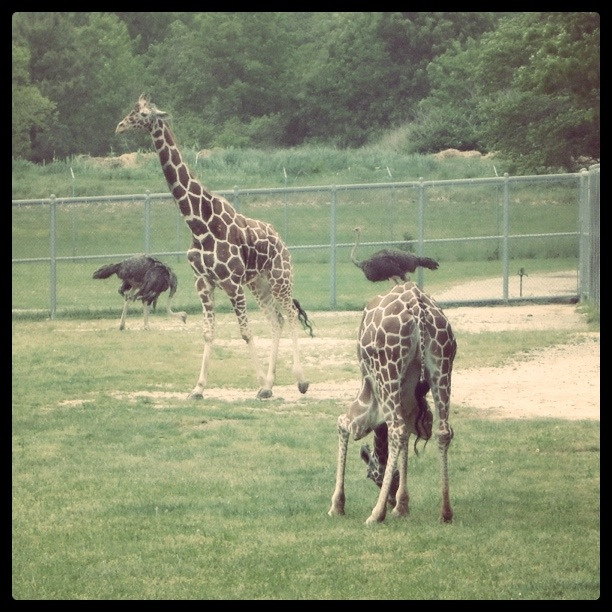giraffe: (119, 81, 331, 417), (312, 275, 499, 552)
